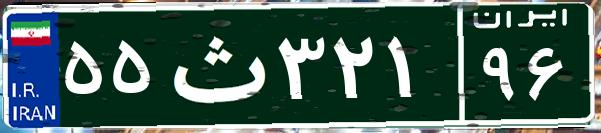1: (385, 28, 445, 110)
2: (330, 28, 385, 110)
3: (273, 28, 330, 110)
5: (57, 26, 110, 107), (110, 28, 158, 105)
6: (525, 38, 570, 115)
9: (475, 38, 525, 113)
ث: (158, 15, 273, 115)
